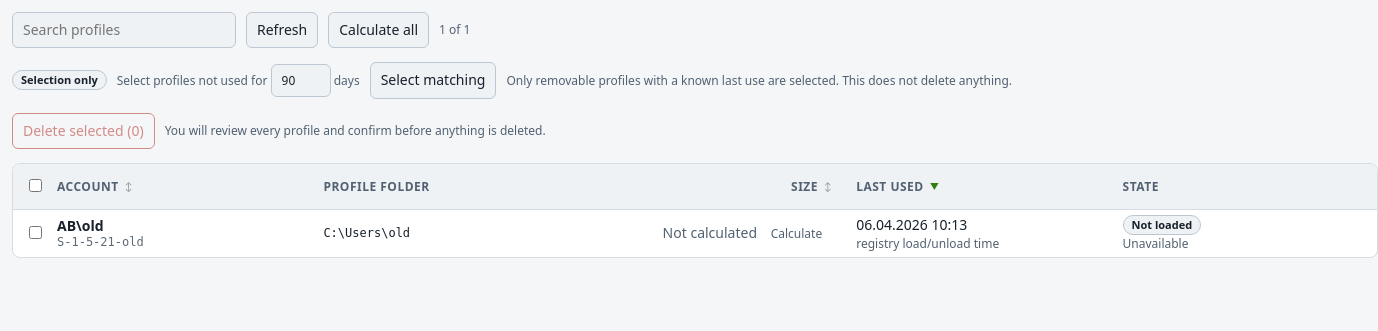
Test: Profiles tab › shows a confirm error as plain text and opens no dialog
The width and height of the screenshot is (1378, 331).
Click the checkbox named "Select AB\\old" at (36, 232), box [29,226,42,239]
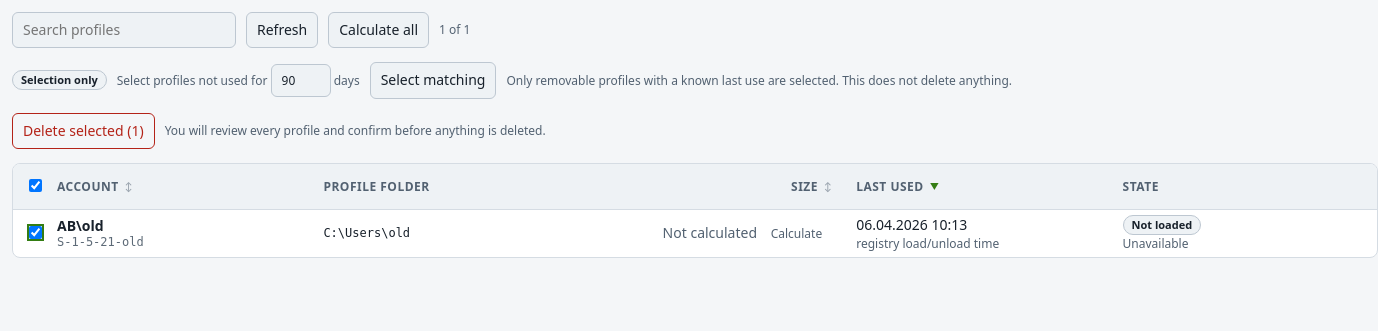
Click the button "Delete selected (1)" at (83, 131), box [12,113,155,149]
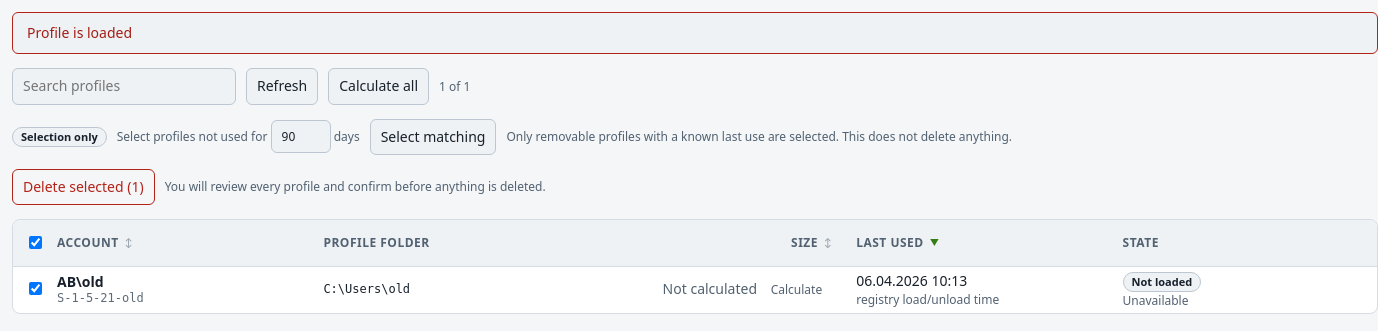
Expected: the message "Profile is loaded" is shown, [12,12,1377,54]
